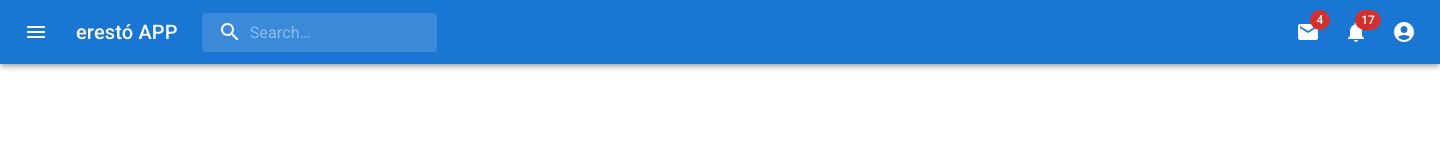
Test: Header Component › opens profile menu when profile icon is clicked
This screenshot has width=1440, height=160.
// Click the profile button
What coordinates should you click on to do the following:
click the button named "account of current user"
I would click on:
 (1404, 32)
Its box is [1380, 8, 1428, 56].
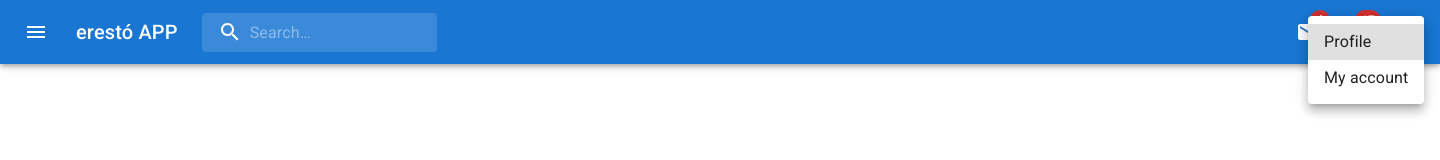
Check: the menu item "Profile" is shown, box [1308, 24, 1424, 60]
Check: the menu item "My account" is shown, box [1324, 68, 1408, 87]
